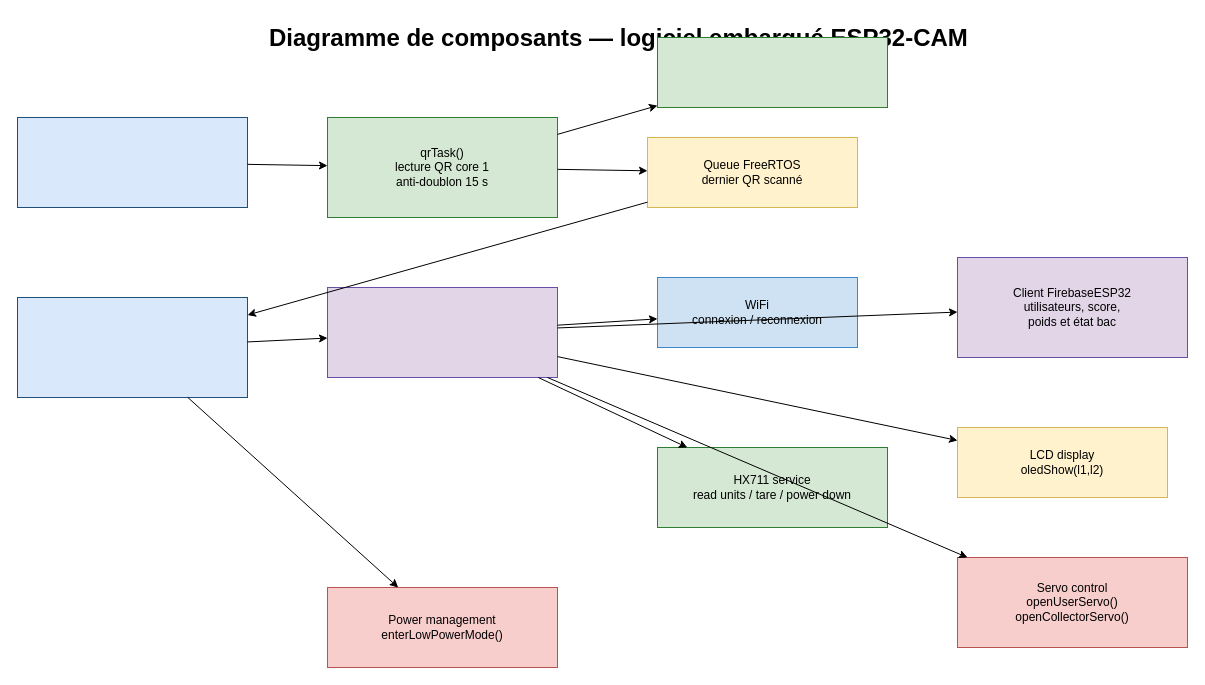
The diagram is 1205 pixels wide and 685 high, and some of its shapes have lost their labels. Here are the shapes that lost their labels. From the top down, the box of each, then its label:
(656, 36, 888, 108): ESP32QRCodeReader caméra OV2640 intégrée
(16, 116, 248, 208): setup() initialisation matériel et services
(16, 296, 248, 398): loop() présence, queue QR, Deep Sleep
(326, 286, 558, 378): checkUser(qrID) orchestration métier
